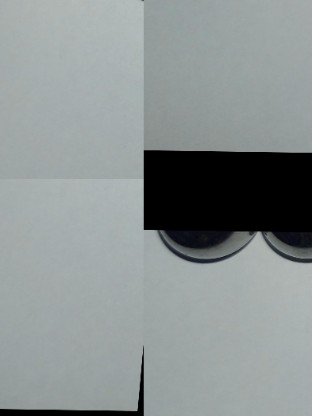ironball: (152, 228, 264, 269), (258, 230, 310, 266)
